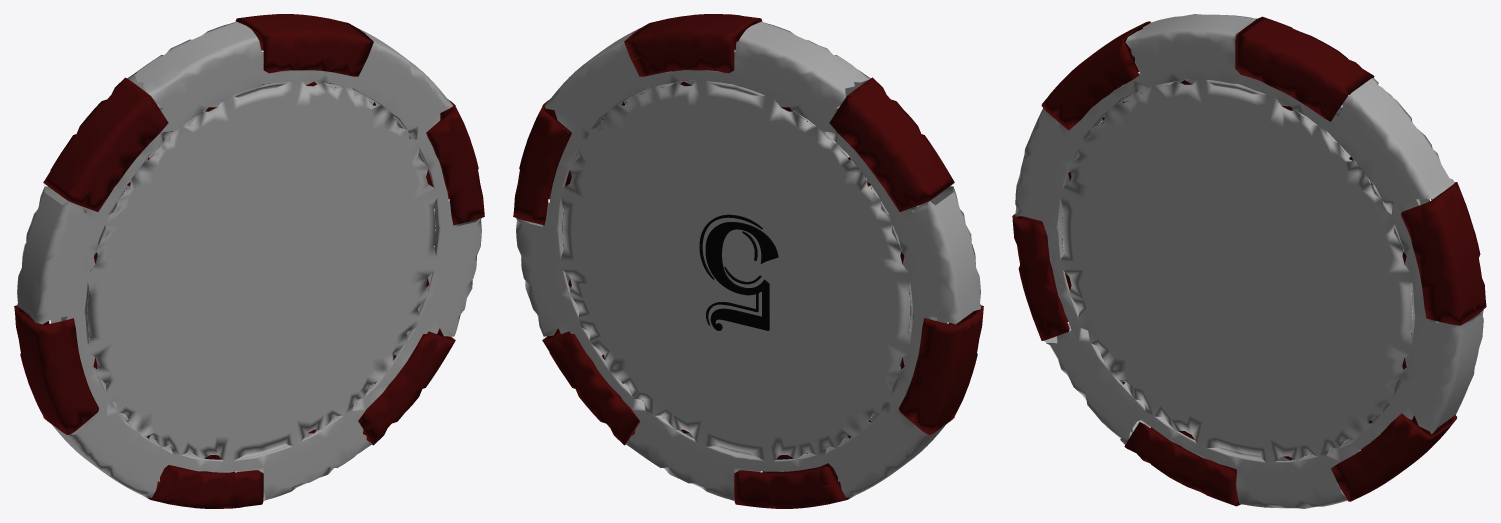
Rendered from Chip-5.obj.
3 renders of one model, left to right at view 1: azimuth 30°, elevation 25°; view 2: azimuth 150°, elevation 25°; view 3: azimuth 330°, elevation 25°, orthographic.
Visible parts, largest first — view 1: Chip-5; view 2: Chip-5; view 3: Chip-5.
Part boxes in pixels (x1=…): Chip-5: x1=14, y1=14, x2=484, y2=508; Chip-5: x1=513, y1=14, x2=983, y2=508; Chip-5: x1=1012, y1=14, x2=1486, y2=508.
Bounding box in the file's own units: 0.9996 × 1 × 0.1098.
